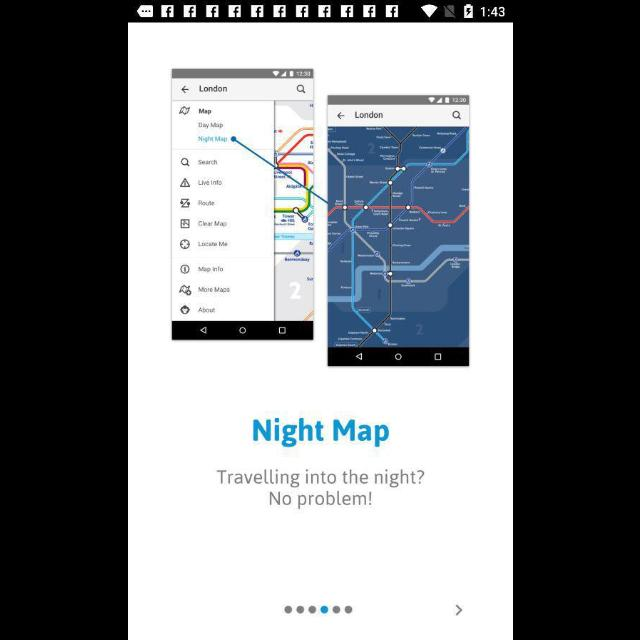icon: (454, 604, 462, 616)
image: (169, 69, 469, 368)
pageindicator: (284, 606, 352, 614)
text: (216, 468, 424, 509), (252, 418, 388, 448)
uppertaskbar: (128, 1, 512, 23)
